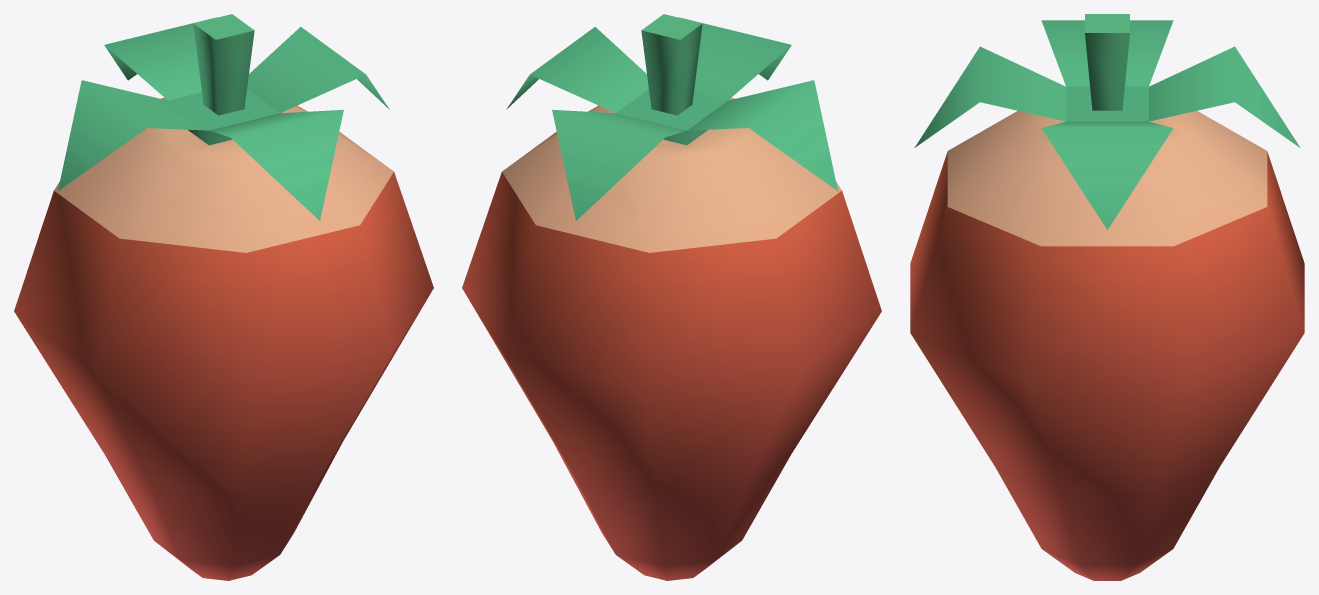
The model's file is kenney-food-strawberry.glb.
3 renders of one model, left to right at view 1: azimuth 30°, elevation 25°; view 2: azimuth 150°, elevation 25°; view 3: azimuth 270°, elevation 25°, orthographic.
Visible parts, largest first — view 1: strawberry; view 2: strawberry; view 3: strawberry.
Boxes of the visible parts, box(x1,y1,x2,y2) form: strawberry: box(14, 14, 433, 580); strawberry: box(462, 14, 881, 580); strawberry: box(910, 14, 1304, 580).
Size of the model in its own units: 0.1197 by 0.182 by 0.1197.
1 material, 1 textured.
